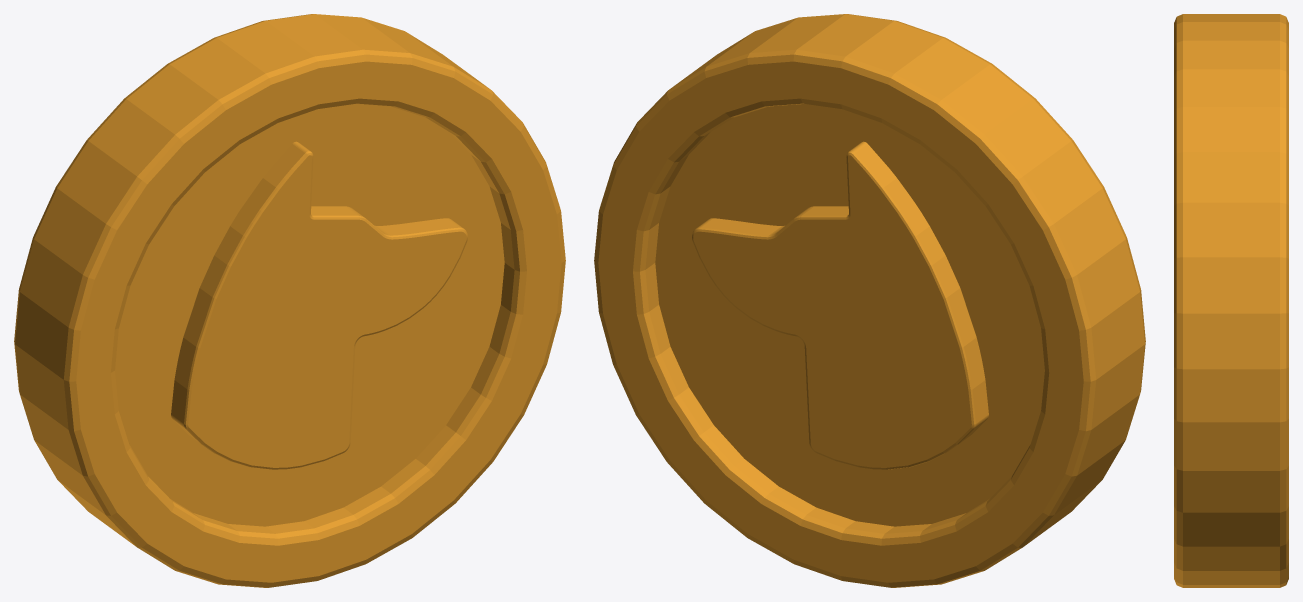
File: cao_coin.glb
The picture shows the model from 3 angles, left to right: view 1: azimuth 30°, elevation 25°; view 2: azimuth 150°, elevation 25°; view 3: azimuth 270°, elevation 25°; orthographic projection.
Bounding box in the file's own units: 2 × 2 × 0.4.
